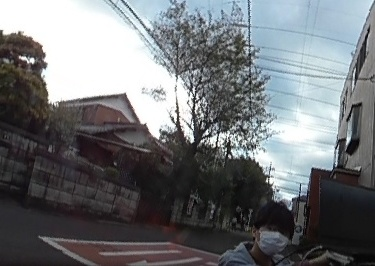person: (224, 200, 315, 266)
